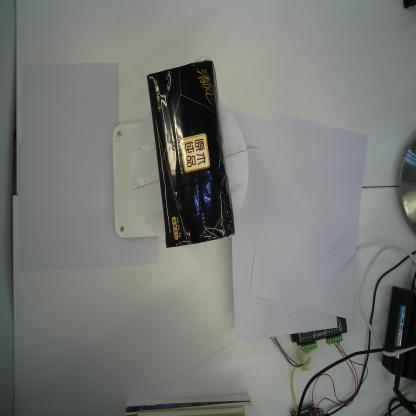Tissue: (145, 58, 236, 251)
